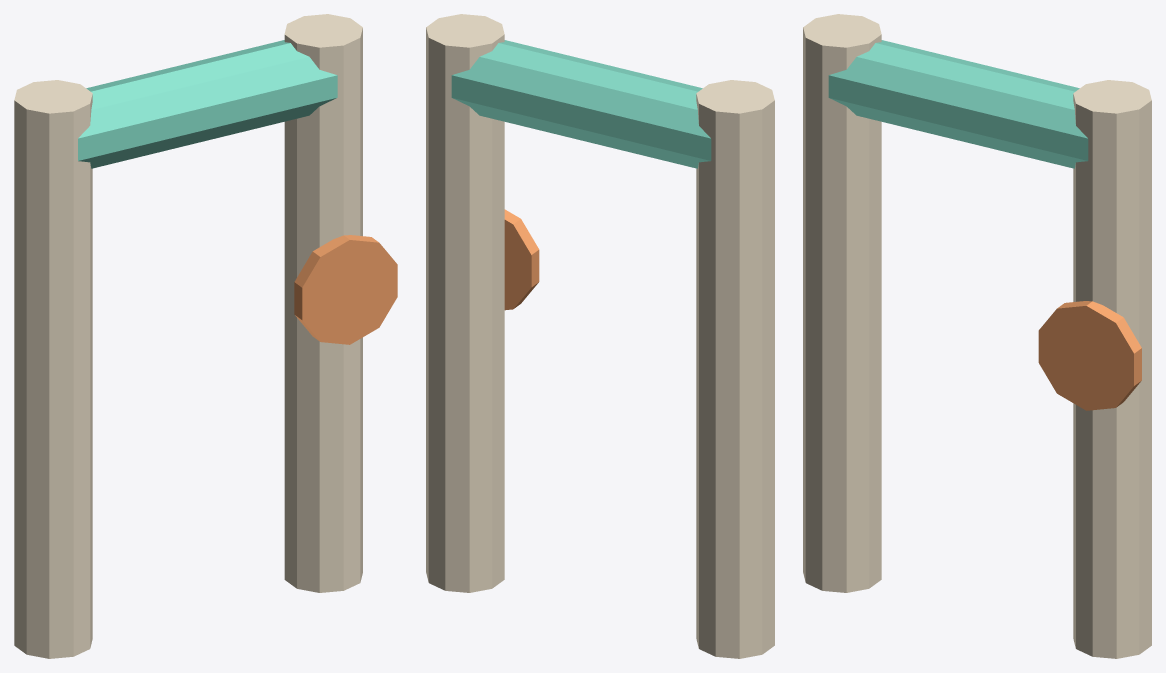
The picture shows the model from 3 angles, left to right: view 1: azimuth 30°, elevation 25°; view 2: azimuth 150°, elevation 25°; view 3: azimuth 330°, elevation 25°; orthographic projection.
Visible parts, largest first — view 1: Pipe, Pipe.001, Cross pipe, Valve; view 2: Pipe, Pipe.001, Cross pipe, Valve; view 3: Pipe, Pipe.001, Cross pipe, Valve.
Boxes of the visible parts, <box> form: Pipe: <box>14,80,92,658</box>; Pipe.001: <box>284,14,362,592</box>; Cross pipe: <box>78,40,337,168</box>; Valve: <box>294,235,397,344</box>; Pipe: <box>696,80,774,658</box>; Pipe.001: <box>426,14,504,592</box>; Cross pipe: <box>451,40,711,168</box>; Valve: <box>504,209,539,310</box>; Pipe: <box>803,14,881,592</box>; Pipe.001: <box>1073,80,1151,658</box>; Cross pipe: <box>828,40,1088,168</box>; Valve: <box>1038,301,1141,410</box>.
Size of the model in its own units: 0.9092 by 1.35 by 0.2075.
1 material, 1 textured.
